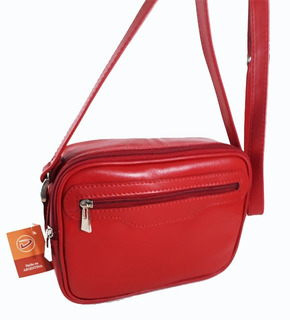cartera: (35, 136, 254, 307)
